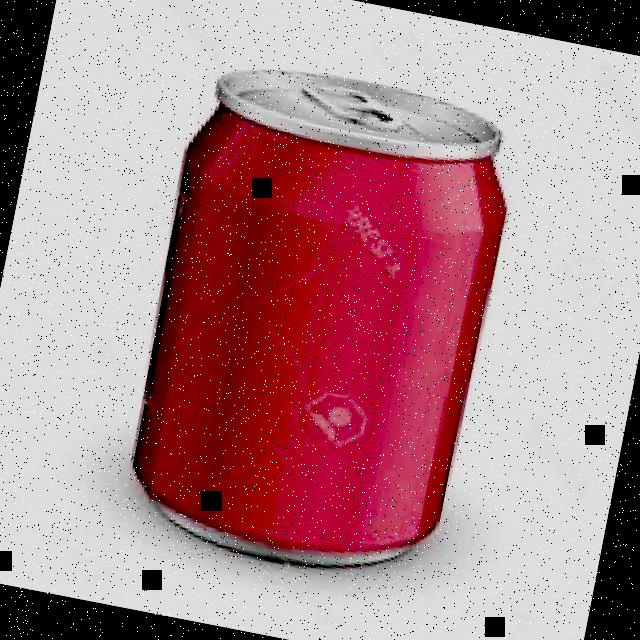can: (112, 43, 526, 590)
